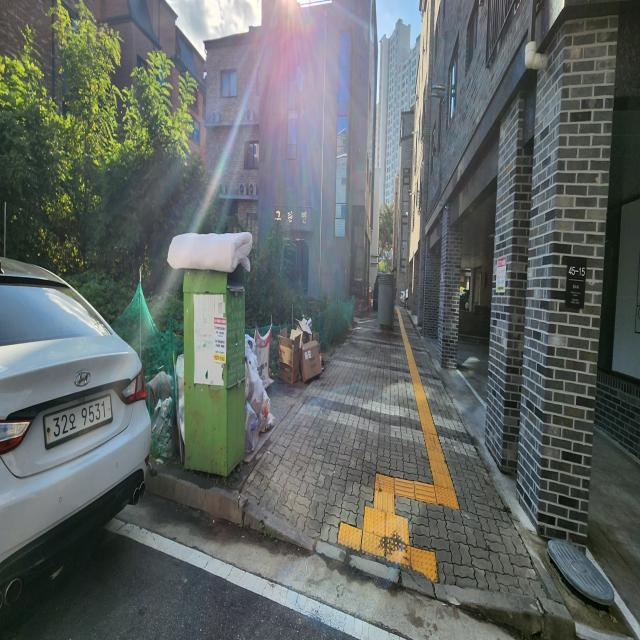General Waste: (140, 357, 190, 469), (238, 332, 271, 462), (276, 320, 323, 395)
Large Waste Items: (162, 218, 259, 299)
